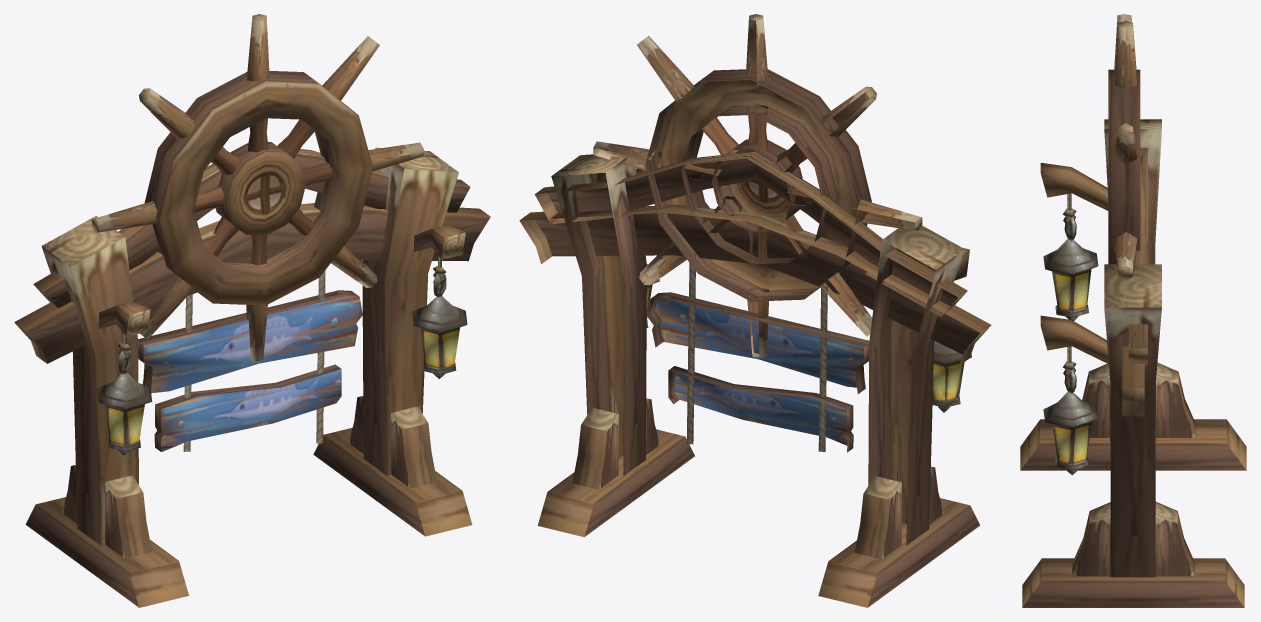
The model's file is Map_06_wooden01.FBX.
3 renders of one model, left to right at view 1: azimuth 30°, elevation 25°; view 2: azimuth 150°, elevation 25°; view 3: azimuth 270°, elevation 25°, orthographic.
Visible parts, largest first — view 1: Map_06_wooden01; view 2: Map_06_wooden01; view 3: Map_06_wooden01.
Boxes of the visible parts, box(x1,y1,x2,y2) form: Map_06_wooden01: box(14, 14, 490, 607); Map_06_wooden01: box(519, 14, 991, 607); Map_06_wooden01: box(1020, 14, 1246, 607).
Size of the model in its own units: 492 by 208 by 514.
